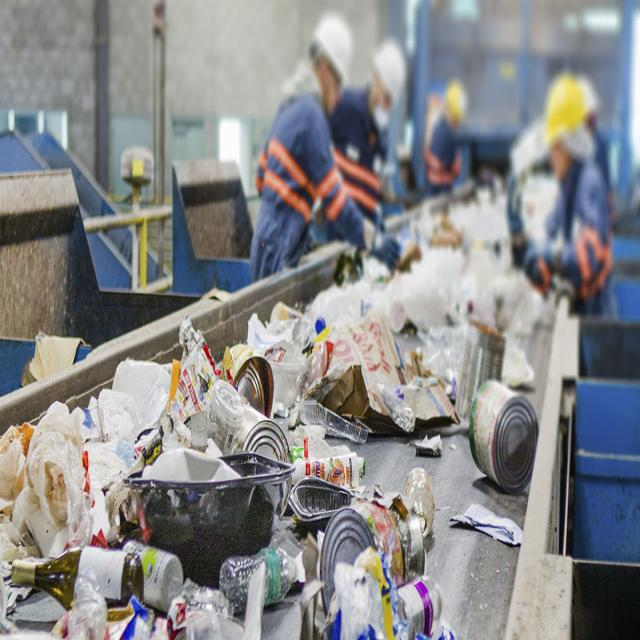glass: (11, 546, 143, 614)
metal: (132, 455, 294, 569), (330, 507, 431, 582), (476, 374, 534, 494)
plastic: (225, 542, 298, 607)
